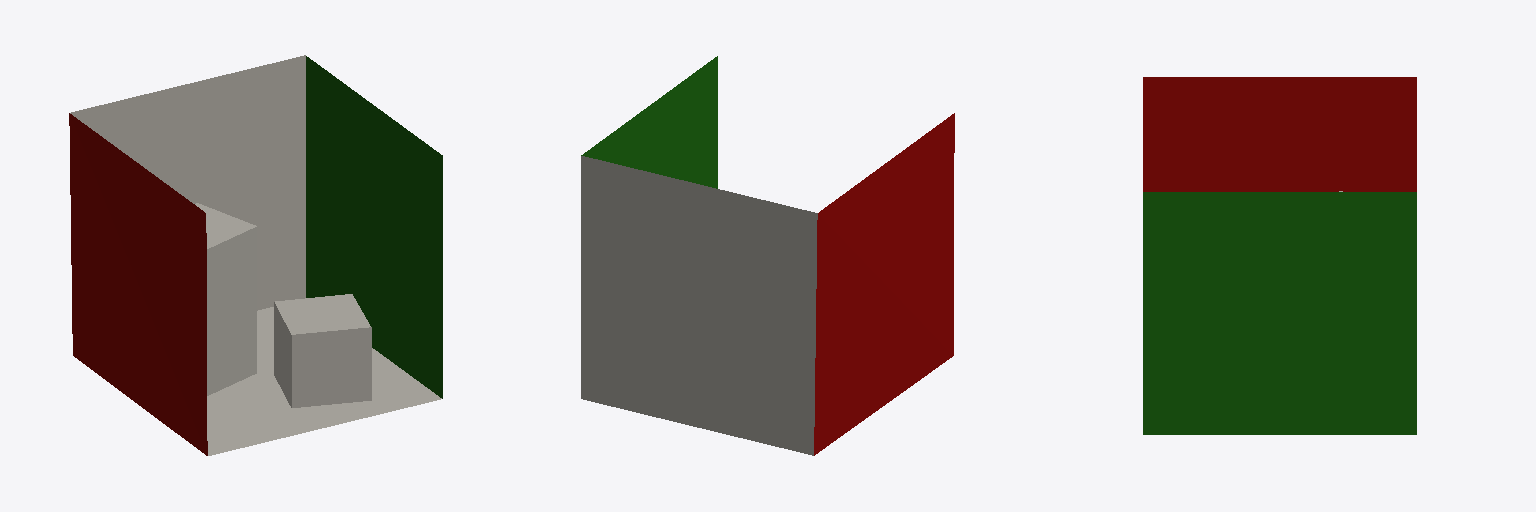
The model's file is CornellBox-Original-No-Ceiling.obj.
3 views of the same model, side by side, from view 1: azimuth 30°, elevation 25°; view 2: azimuth 150°, elevation 25°; view 3: azimuth 270°, elevation 25° (orthographic).
Parts seen in each view (by area): view 1: CornellBox-Original-No-Ceiling_CornellBox-Original-No-Ceiling_le, CornellBox-Original-No-Ceiling_CornellBox-Original-No-Ceiling_ri, CornellBox-Original-No-Ceiling_CornellBox-Original-No-Ceiling_ba, CornellBox-Original-No-Ceiling_CornellBox-Original-No-Ceiling_fl, CornellBox-Original-No-Ceiling_CornellBox-Original-No-Ceiling_sh, CornellBox-Original-No-Ceiling_CornellBox-Original-No-Ceiling_ta; view 2: CornellBox-Original-No-Ceiling_CornellBox-Original-No-Ceiling_ba, CornellBox-Original-No-Ceiling_CornellBox-Original-No-Ceiling_le, CornellBox-Original-No-Ceiling_CornellBox-Original-No-Ceiling_ri; view 3: CornellBox-Original-No-Ceiling_CornellBox-Original-No-Ceiling_ri, CornellBox-Original-No-Ceiling_CornellBox-Original-No-Ceiling_le.
Part boxes in pixels (left/top/right/bottom): CornellBox-Original-No-Ceiling_CornellBox-Original-No-Ceiling_le: left=69, top=113, right=207, bottom=455; CornellBox-Original-No-Ceiling_CornellBox-Original-No-Ceiling_ri: left=306, top=56, right=442, bottom=398; CornellBox-Original-No-Ceiling_CornellBox-Original-No-Ceiling_ba: left=70, top=55, right=305, bottom=310; CornellBox-Original-No-Ceiling_CornellBox-Original-No-Ceiling_fl: left=207, top=307, right=441, bottom=455; CornellBox-Original-No-Ceiling_CornellBox-Original-No-Ceiling_sh: left=274, top=294, right=371, bottom=407; CornellBox-Original-No-Ceiling_CornellBox-Original-No-Ceiling_ta: left=195, top=203, right=256, bottom=395; CornellBox-Original-No-Ceiling_CornellBox-Original-No-Ceiling_ba: left=581, top=156, right=817, bottom=455; CornellBox-Original-No-Ceiling_CornellBox-Original-No-Ceiling_le: left=814, top=113, right=954, bottom=455; CornellBox-Original-No-Ceiling_CornellBox-Original-No-Ceiling_ri: left=581, top=56, right=717, bottom=188; CornellBox-Original-No-Ceiling_CornellBox-Original-No-Ceiling_ri: left=1143, top=192, right=1416, bottom=434; CornellBox-Original-No-Ceiling_CornellBox-Original-No-Ceiling_le: left=1143, top=77, right=1416, bottom=191.
Bounding box in the file's own units: 2.02 × 1.99 × 2.03.